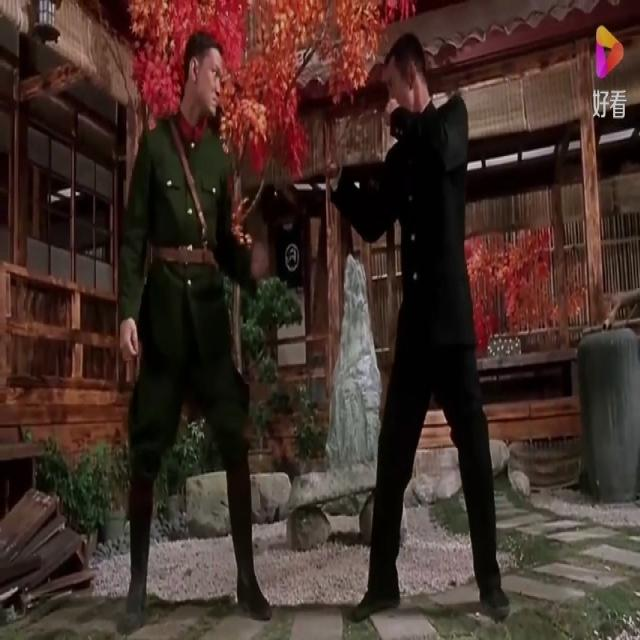fight: (116, 24, 509, 637)
